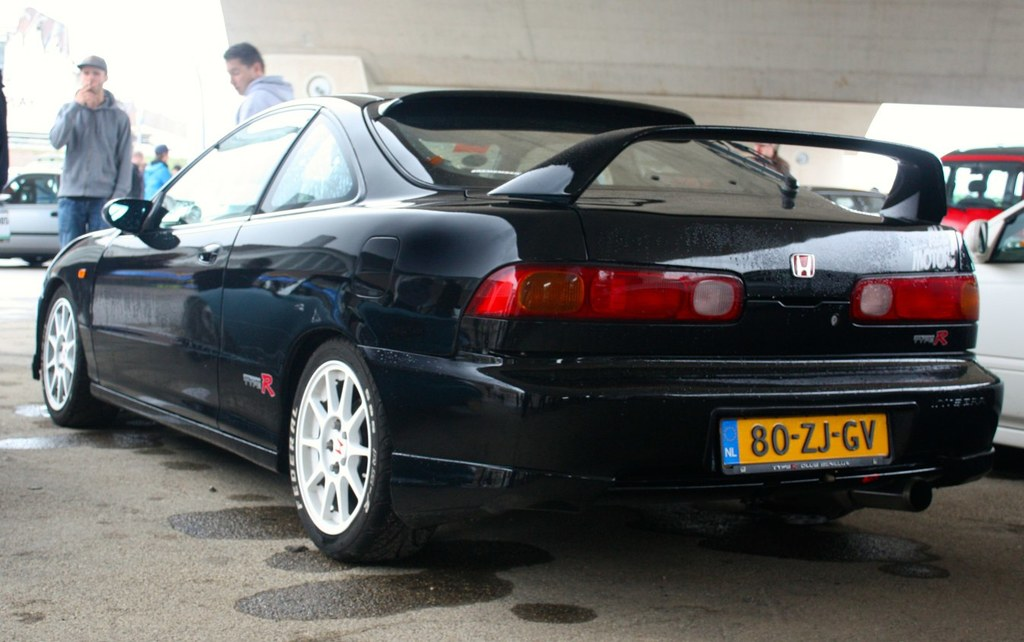Car: (23, 82, 996, 569), (975, 204, 1023, 444), (931, 142, 1023, 229), (0, 167, 69, 255)
